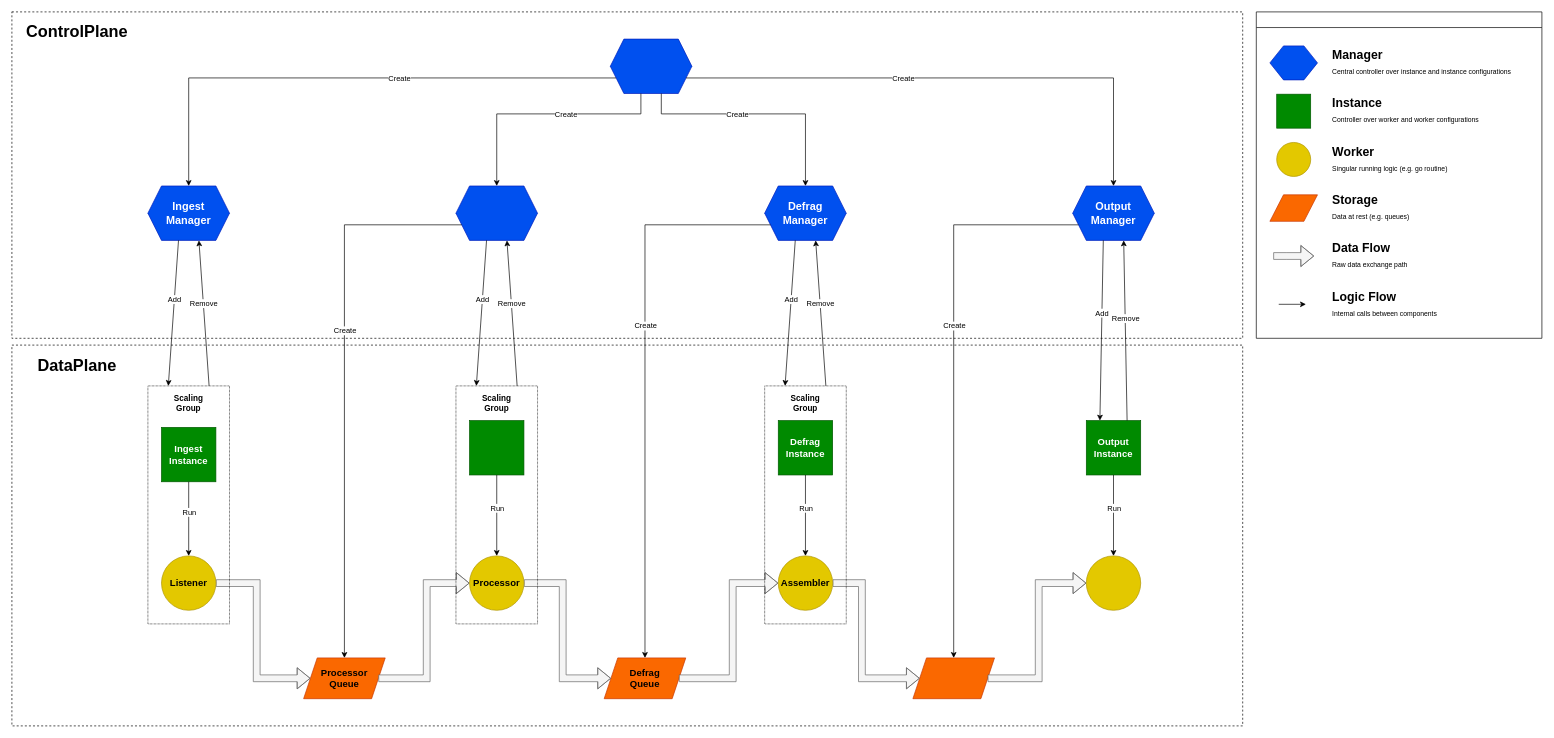
Image size: 1554x738. Some labels were removed from this diagram. The shapes that lost their labels are listed below. From the top down, each one's box as (x1, y1, x2, y2) in pixels, then its label:
(610, 38, 692, 94): Receive Daemon
(1256, 11, 1542, 338): Map Key
(455, 185, 538, 240): Processor Manager
(469, 420, 524, 475): Processor Instance
(1086, 555, 1141, 610): Output
(912, 657, 995, 699): Output Queue
